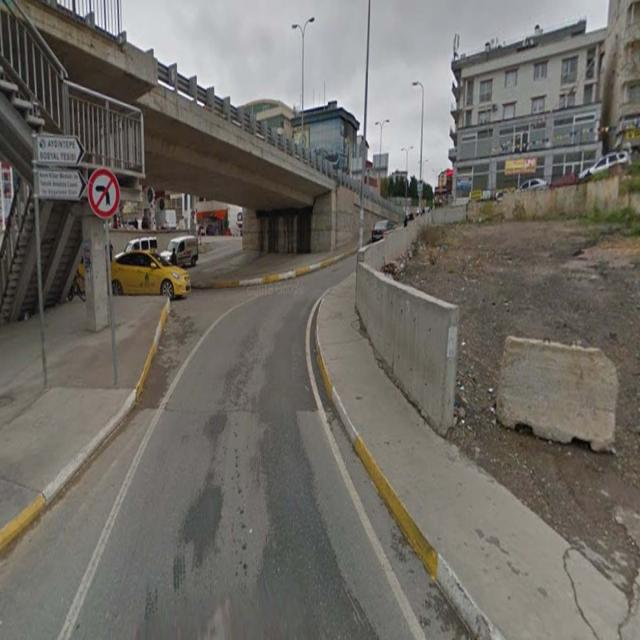soladonulmez: (88, 167, 120, 218)
